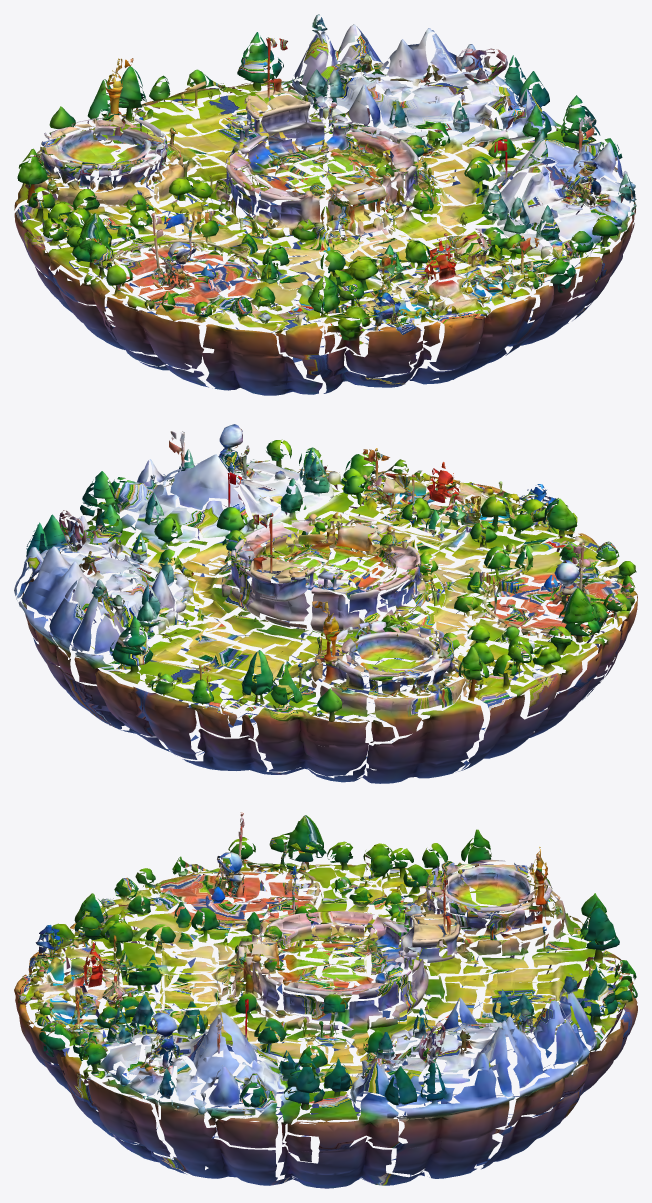
The model's file is star_ssing.glb.
3 views of the same model, one above another, from view 1: azimuth 30°, elevation 25°; view 2: azimuth 150°, elevation 25°; view 3: azimuth 270°, elevation 25° (orthographic). The views are drawn at different scales.
Visible parts, largest first — view 1: star_ssing; view 2: star_ssing; view 3: star_ssing.
Part boxes in pixels (box(x1,y1,x2,y2)): star_ssing: box(14, 14, 636, 395); star_ssing: box(14, 424, 637, 783); star_ssing: box(14, 812, 637, 1188).
Size of the model in its own units: 0.9715 by 0.3868 by 0.9798.
1 material, 1 textured.
